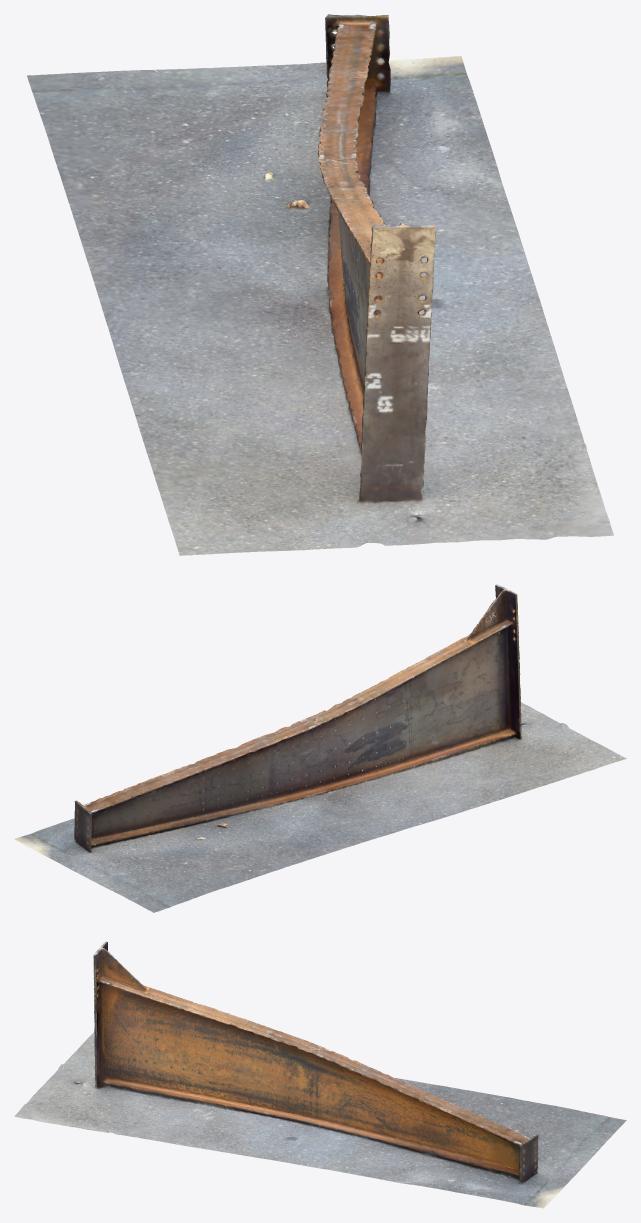
The picture shows the model from 3 angles, top to bottom: view 1: azimuth 30°, elevation 25°; view 2: azimuth 150°, elevation 25°; view 3: azimuth 270°, elevation 25°; orthographic projection. The views are drawn at different scales.
Bounding box in the file's own units: 1.83 × 0.6734 × 2.68.
Materials: 1 (1 with a texture image).
